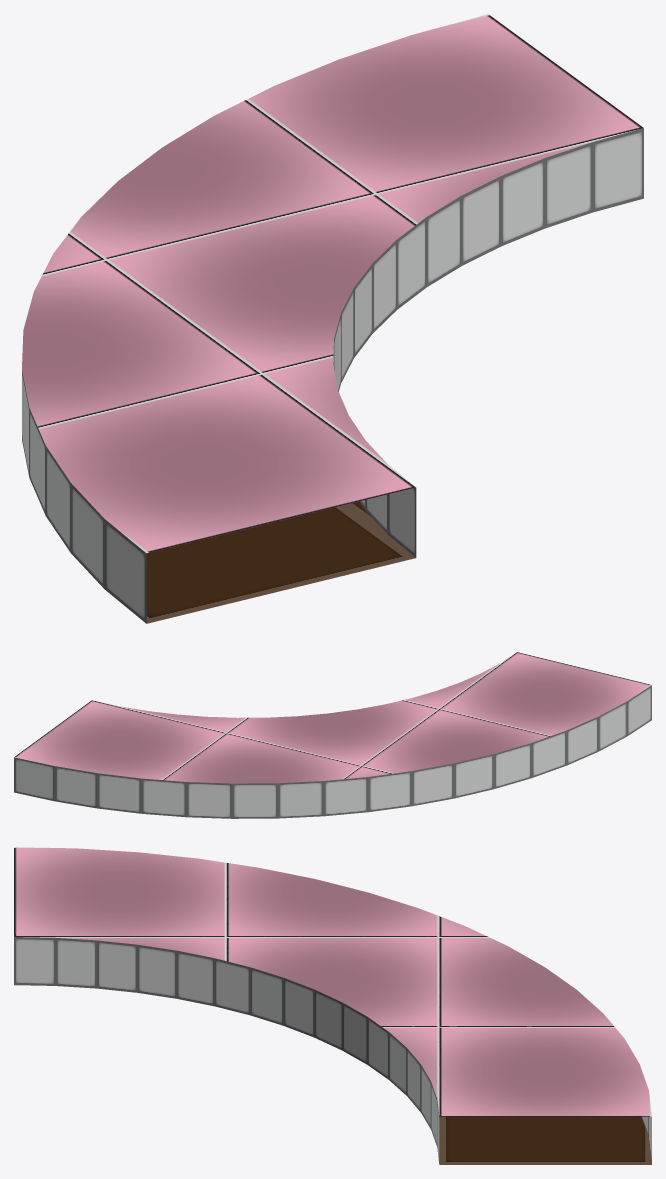
File: ComplexityAscentCurve1.obj
3 views of the same model, one above another, from view 1: azimuth 30°, elevation 25°; view 2: azimuth 150°, elevation 25°; view 3: azimuth 270°, elevation 25° (orthographic). The views are drawn at different scales.
Parts seen in each view (by area): view 1: ComplexityAscentCurve1; view 2: ComplexityAscentCurve1; view 3: ComplexityAscentCurve1.
Boxes of the visible parts, x1,y1,x2,y2 form: ComplexityAscentCurve1: (22, 14, 643, 623); ComplexityAscentCurve1: (14, 652, 651, 818); ComplexityAscentCurve1: (14, 847, 651, 1164).
Bounding box in the file's own units: 6 × 0.5 × 6.
